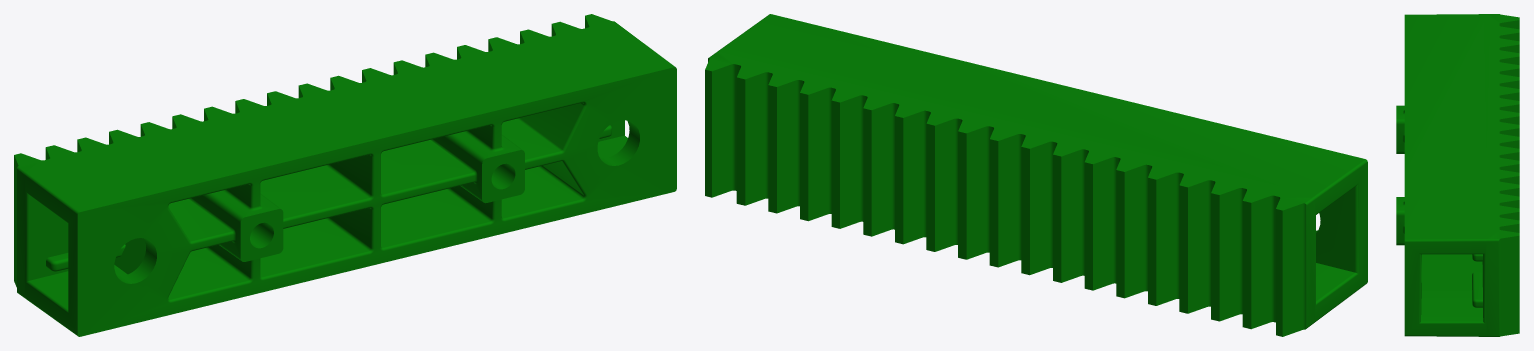
Rendered from Rack Gear v2 (276-4782).glb.
3 renders of one model, left to right at view 1: azimuth 30°, elevation 25°; view 2: azimuth 150°, elevation 25°; view 3: azimuth 270°, elevation 25°, orthographic. The views are drawn at different scales.
Parts seen in each view (by area): view 1: 276-4782-001 Rev3; view 2: 276-4782-001 Rev3; view 3: 276-4782-001 Rev3.
Part boxes in pixels (bbox=[...]): 276-4782-001 Rev3: bbox=[14, 14, 676, 336]; 276-4782-001 Rev3: bbox=[705, 14, 1367, 336]; 276-4782-001 Rev3: bbox=[1396, 14, 1519, 336].
Bounding box in the file's own units: 0.063 × 0.0127 × 0.0145.
